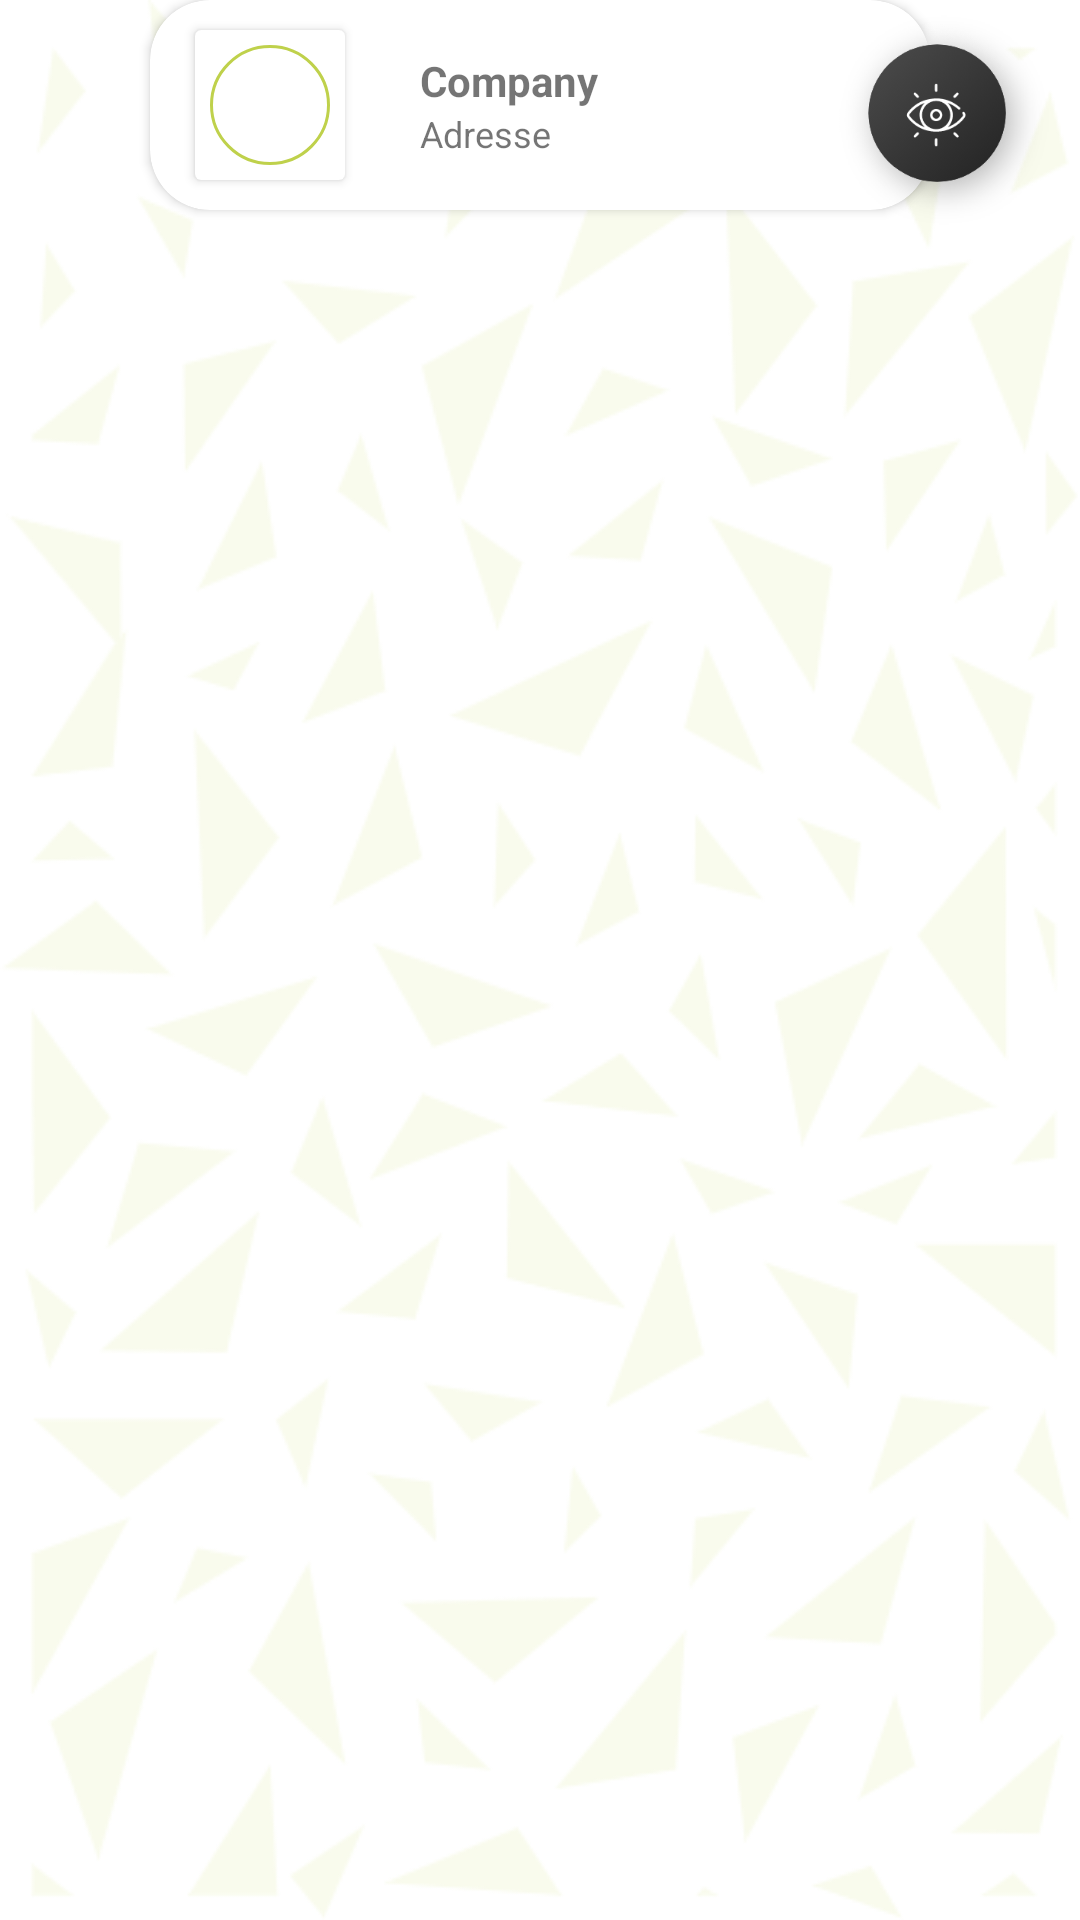

Icons on this 1080px×1920px Android screen, each with its box as (left=x1, top=y1, right=x2, bottom=y2):
eye detail: (left=868, top=10, right=1018, bottom=210)
